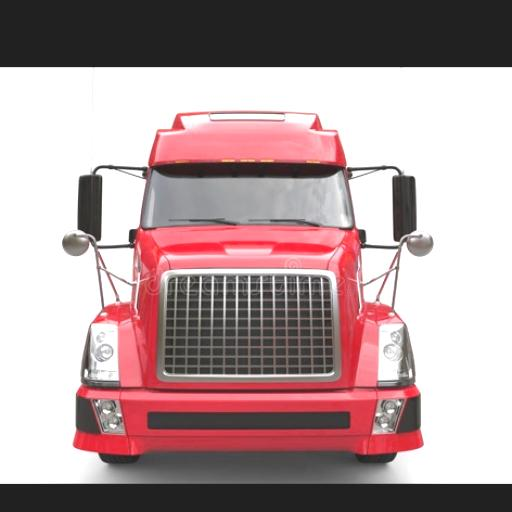truck: (62, 109, 437, 469)
